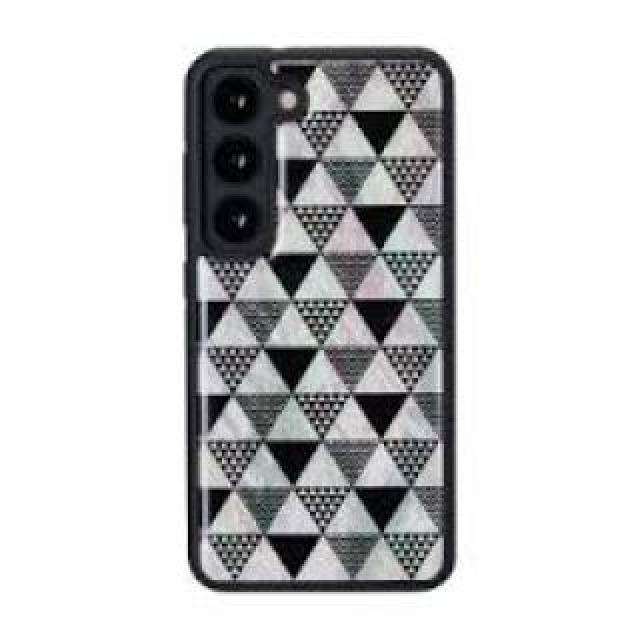smart phone: (155, 0, 532, 625)
